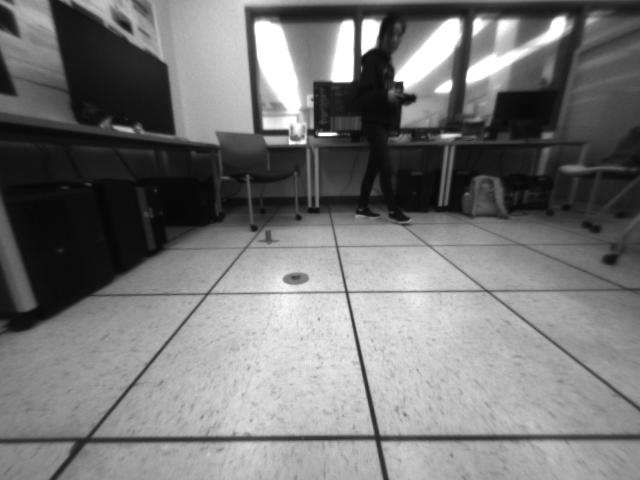X: (256, 229, 282, 246)
